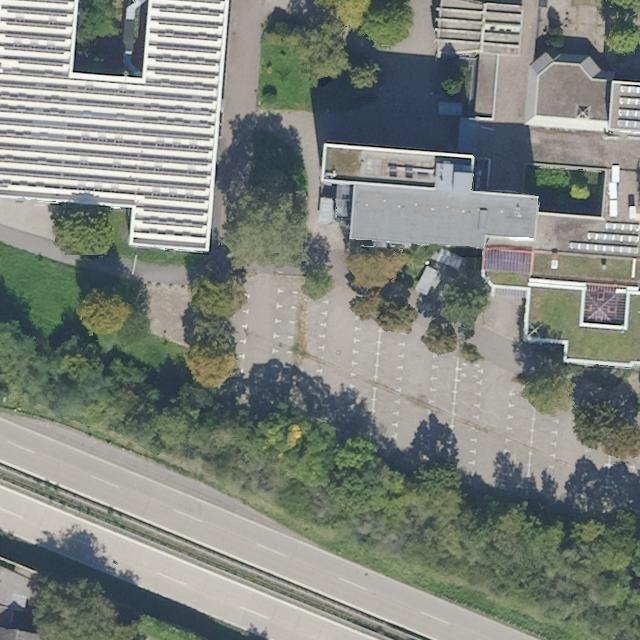PV: (567, 221, 639, 257), (616, 83, 639, 133)
